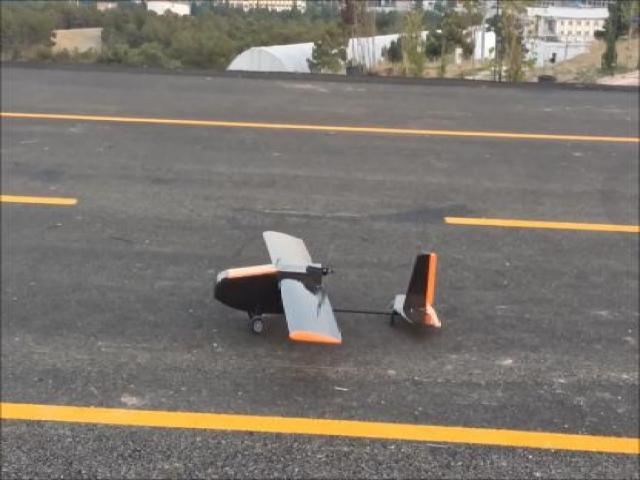uav: (203, 216, 452, 362)
